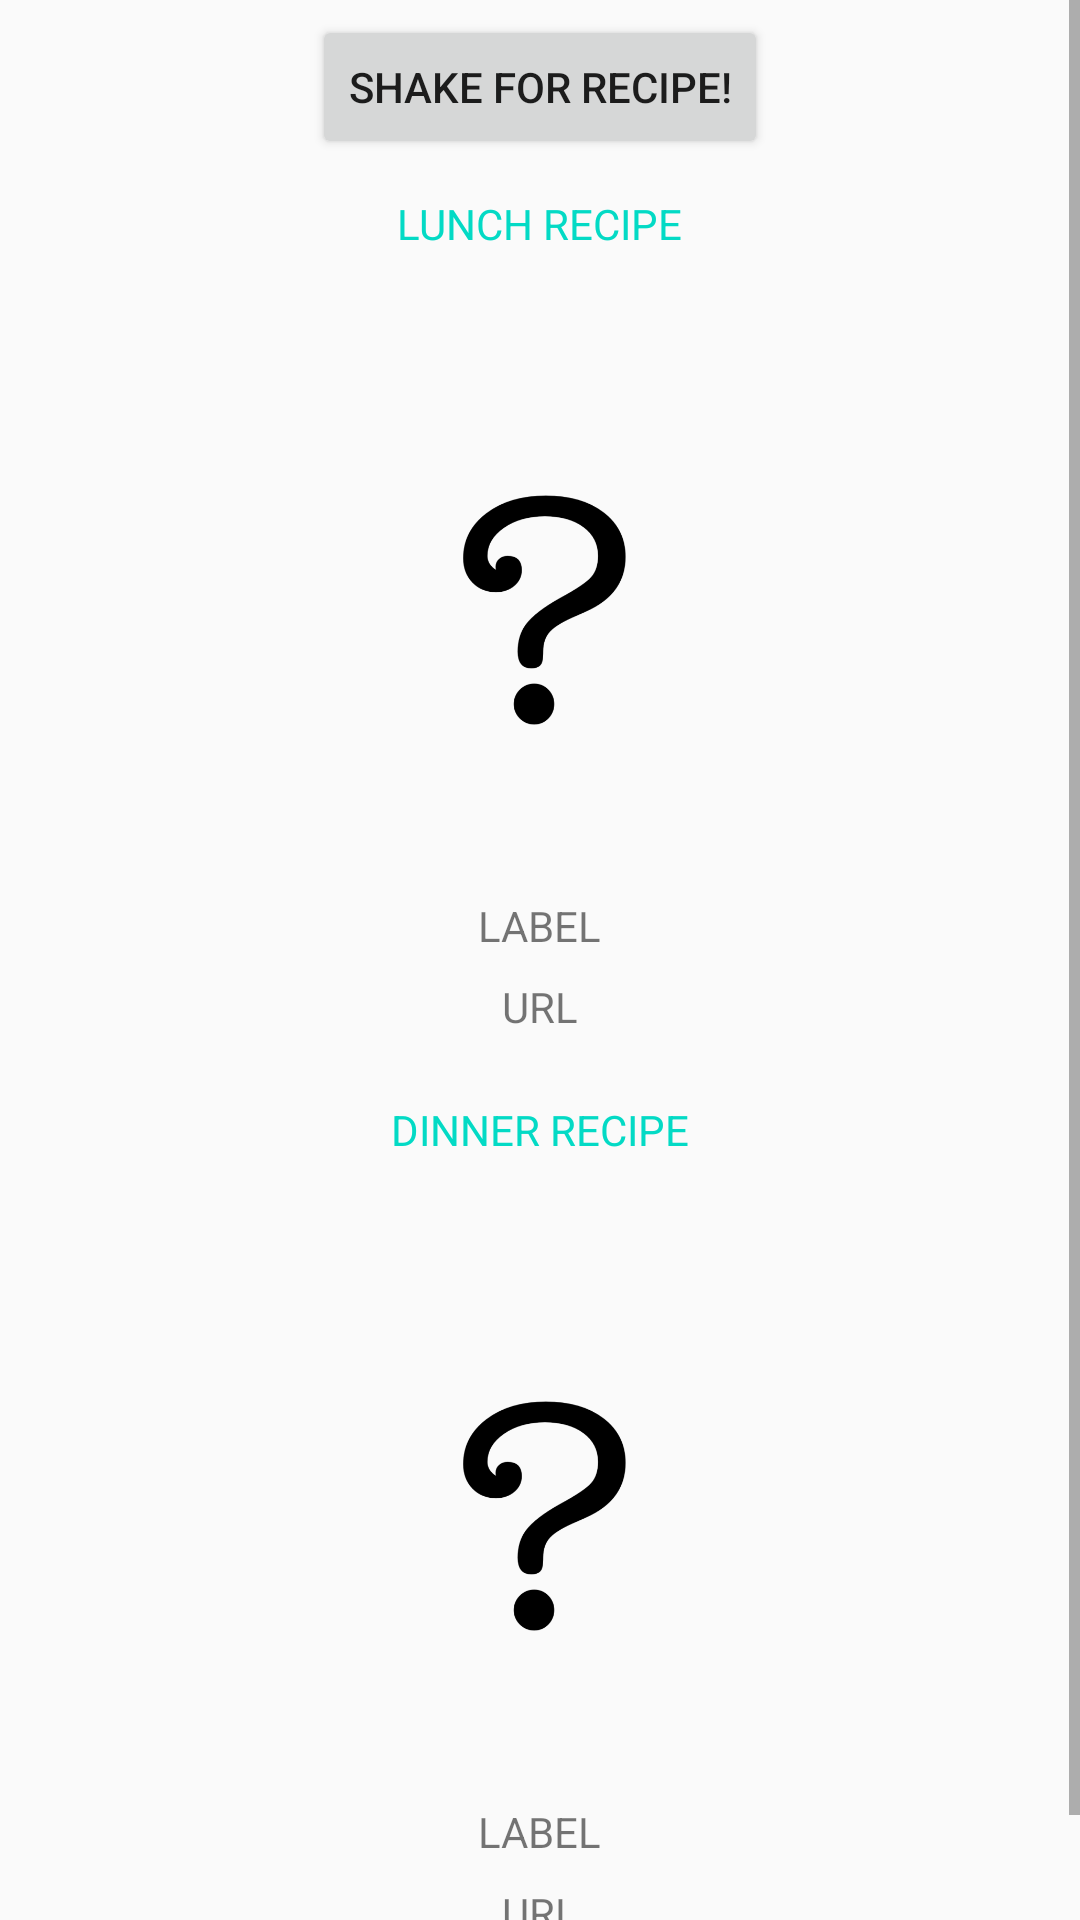

Point at icon controls on the screen. Image size 1080px×1920px, points as (x=x, y=y).
domanda: (x=544, y=610), (x=544, y=1516)
